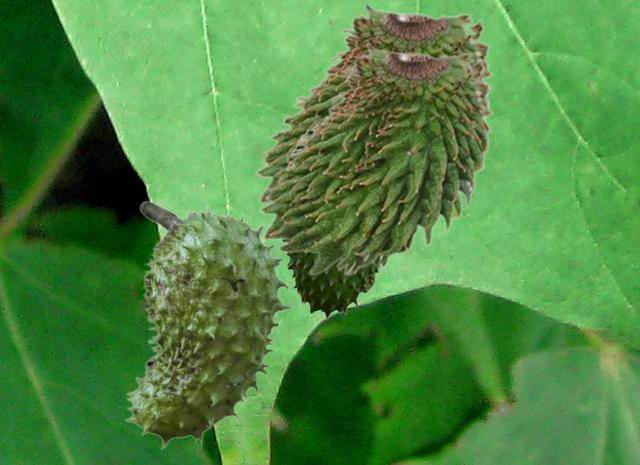guyabano: (258, 40, 493, 275), (254, 0, 493, 205), (123, 200, 294, 449), (281, 130, 380, 318)
